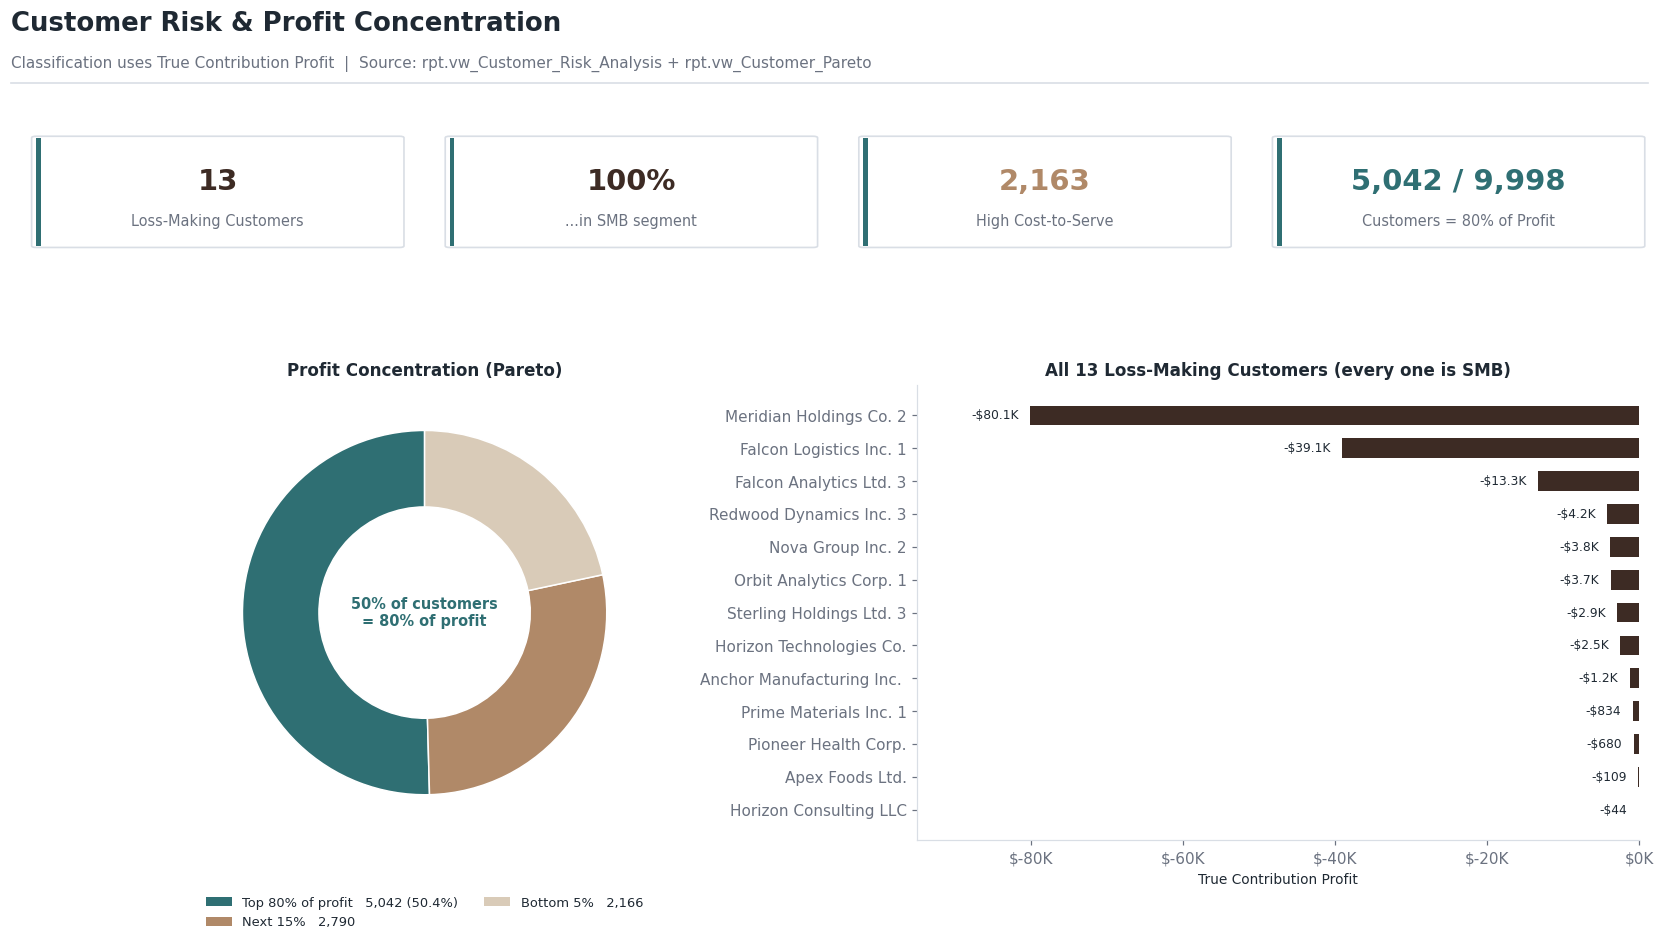

What the dashboard file says about the page in this screenshot:
{"tool":"powerbi","page":{"name":"Customer Risk & Profit Concentration","canvas":[1450,1300],"ordinal":3},"visuals":[{"type":"cardVisual","title":"Loss-Making Customer","fields":{"Data":["CountNonNull(rpt vw_Customer_Risk_Analysis.Profitability_Status)"]},"box":[1084.1,94.9,300,141.7],"z":0},{"type":"cardVisual","title":"High Cost-to-Serve","fields":{"Data":["CountNonNull(rpt vw_Customer_Risk_Analysis.Cost_Efficiency_Status)"]},"box":[424.6,94.9,300,141.7],"z":1000},{"type":"cardVisual","title":"Top 80% Profit Contributors","fields":{"Data":["CountNonNull(rpt vw_Customer_Pareto.Pareto_Segment)"]},"box":[747.3,94.9,300,141.7],"z":2000},{"type":"donutChart","title":"Customer_ID by Pareto_Segment","fields":{"Y":["CountNonNull(rpt vw_Customer_Pareto.Customer_ID)"],"Category":["rpt vw_Customer_Pareto.Pareto_Segment"]},"box":[1066.7,498.3,367.7,344],"z":3000},{"type":"lineClusteredColumnComboChart","title":" Contribution_Profit and Cumulative_Profit_Pct by Profit_Rank","fields":{"Category":["rpt vw_Customer_Pareto.Profit_Rank"],"Y":["Sum(rpt vw_Customer_Pareto.Contribution_Profit)"],"Y2":["Sum(rpt vw_Customer_Pareto.Cumulative_Profit_Pct)"]},"box":[21.4,495.8,586.7,343.3],"z":4000},{"type":"scatterChart","title":" Cost_to_Serve_Ratio, Contribution_Margin_Pct and Net_Revenue by Customer_ID","fields":{"Y":["Sum(rpt vw_Customer_Risk_Analysis.Contribution_Margin_Pct)"],"X":["Sum(rpt vw_Customer_Risk_Analysis.Cost_to_Serve_Ratio)"],"Size":["Sum(rpt vw_Customer_Risk_Analysis.Net_Revenue)"],"Series":["rpt vw_Customer_Risk_Analysis.Customer_ID"]},"box":[626.3,498.2,421.7,343.3],"z":5000},{"type":"tableEx","fields":{"Values":["rpt vw_Customer_Risk_Analysis.Customer_Name","rpt vw_Customer_Risk_Analysis.Customer_Segment","Sum(rpt vw_Customer_Risk_Analysis.Net_Revenue)","Sum(rpt vw_Customer_Risk_Analysis.Total_Cost_to_Serve)","Sum(rpt vw_Customer_Risk_Analysis.Contribution_Profit)","Sum(rpt vw_Customer_Risk_Analysis.Contribution_Margin_Pct)","Sum(rpt vw_Customer_Risk_Analysis.Cost_to_Serve_Ratio)","rpt vw_Customer_Risk_Analysis.Cost_Efficiency_Status"]},"box":[54.6,880.1,1328.3,398.3],"z":6000},{"type":"cardVisual","fields":{"Data":["rpt vw_Cost_to_Serve.Total Customers"]},"box":[99.6,90.1,301.7,146.7],"z":7000},{"type":"slicer","fields":{"Values":["rpt vw_Customer_Risk_Analysis.Customer_Segment"]},"box":[597.8,279.9,301.3,166.1],"z":8000},{"type":"slicer","fields":{"Values":["rpt vw_Customer_Risk_Analysis.Cost_Efficiency_Status"]},"box":[984.5,279.9,300,166.7],"z":9000},{"type":"slicer","fields":{"Values":["rpt vw_Customer_Risk_Analysis.Profitability_Status"]},"box":[199.3,279.9,334.5,166.1],"z":10000},{"type":"actionButton","box":[0,0,99.6,73.5],"z":11000}]}

Visuals, with their boxes on the page's 1450x1300 design canvas (x1, y1, x2, y2). These are canvas units, not pixel positions in the 1664x945 screenshot, which may show the page scaled, cropped or inside an application window:
"Loss-Making Customer" cardVisual: (left=1084, top=95, right=1384, bottom=237)
"High Cost-to-Serve" cardVisual: (left=425, top=95, right=725, bottom=237)
"Top 80% Profit Contributors" cardVisual: (left=747, top=95, right=1047, bottom=237)
"Customer_ID by Pareto_Segment" donutChart: (left=1067, top=498, right=1434, bottom=842)
" Contribution_Profit and Cumulative_Profit_Pct by Profit_Rank" lineClusteredColumnComboChart: (left=21, top=496, right=608, bottom=839)
" Cost_to_Serve_Ratio, Contribution_Margin_Pct and Net_Revenue by Customer_ID" scatterChart: (left=626, top=498, right=1048, bottom=842)
tableEx - rpt vw_Customer_Risk_Analysis.Customer_Name x rpt vw_Customer_Risk_Analysis.Customer_Segment: (left=55, top=880, right=1383, bottom=1278)
cardVisual - rpt vw_Cost_to_Serve.Total Customers: (left=100, top=90, right=401, bottom=237)
slicer - rpt vw_Customer_Risk_Analysis.Customer_Segment: (left=598, top=280, right=899, bottom=446)
slicer - rpt vw_Customer_Risk_Analysis.Cost_Efficiency_Status: (left=984, top=280, right=1284, bottom=447)
slicer - rpt vw_Customer_Risk_Analysis.Profitability_Status: (left=199, top=280, right=534, bottom=446)
actionButton: (left=0, top=0, right=100, bottom=74)
